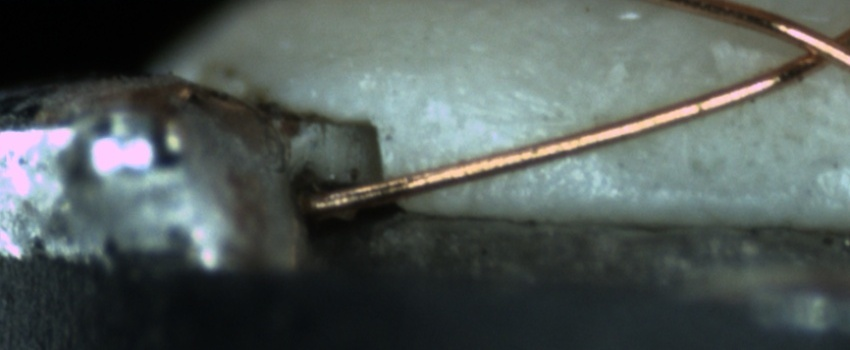CL: (773, 14, 850, 80)
